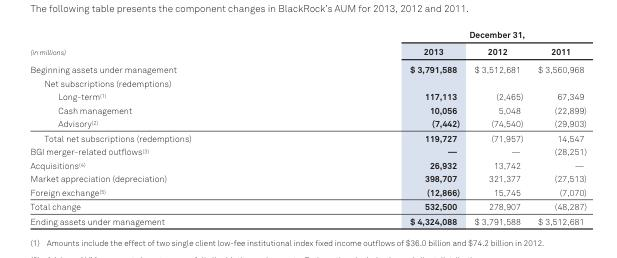table: (29, 28, 585, 226)
table column: (29, 28, 300, 226), (300, 28, 466, 226), (466, 28, 529, 226), (529, 28, 585, 226)
table column header: (29, 28, 585, 60)
table projected row header: (29, 76, 585, 89)
table row: (29, 42, 585, 60), (29, 60, 585, 76), (29, 28, 585, 42), (29, 89, 585, 103), (29, 116, 585, 130), (29, 130, 585, 144), (29, 144, 585, 158), (29, 171, 585, 185), (29, 185, 585, 199), (29, 199, 585, 213), (29, 76, 585, 89), (29, 103, 585, 116), (29, 158, 585, 171), (29, 213, 585, 226)
table spanning cell: (29, 28, 300, 60), (300, 28, 585, 42)
